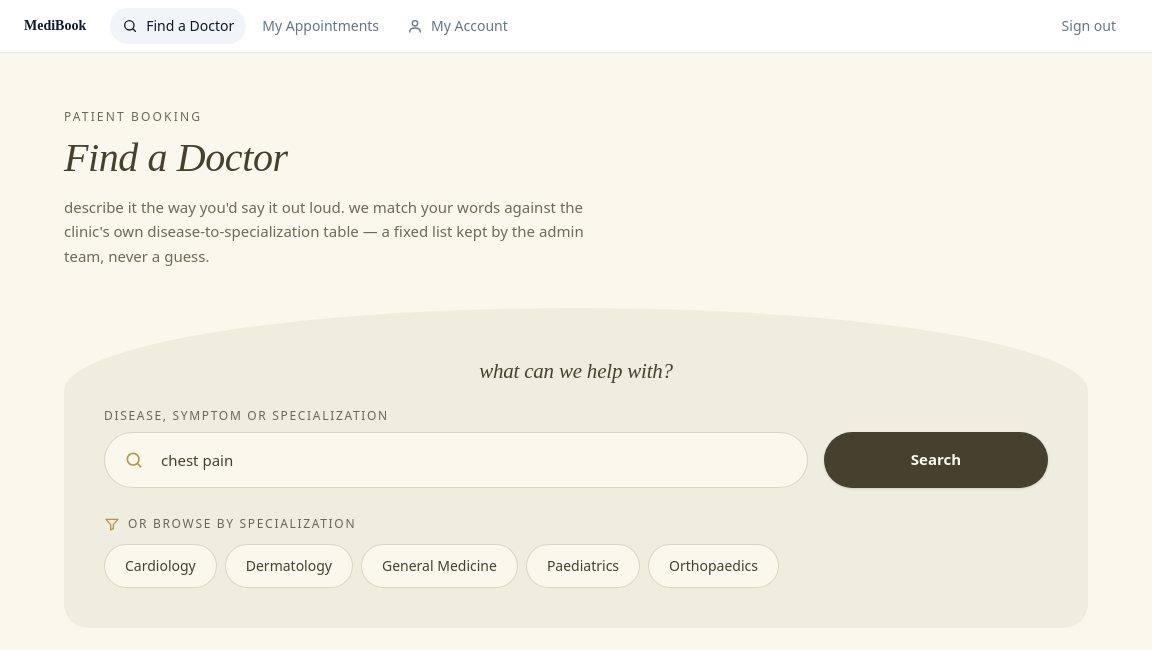
Test: App › [AC-006] sign-out clears the token and returns to sign-in
Click the button "Sign out" at (1089, 26), box top-left (1050, 8), bottom-right (1128, 44)
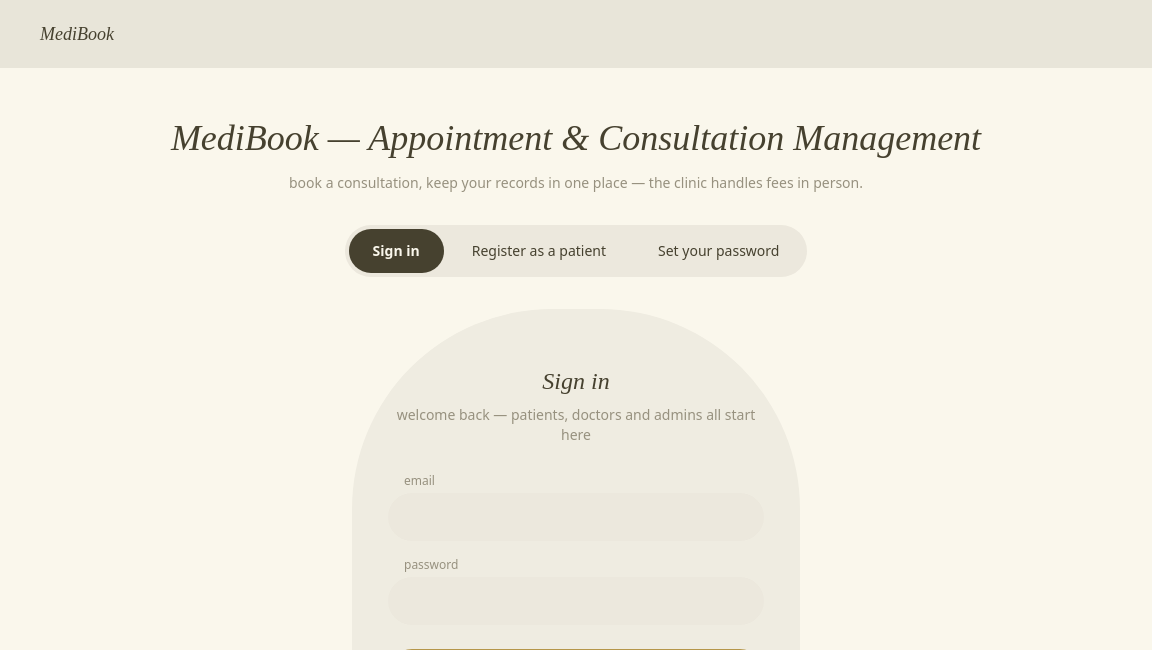
Expected: the element named "Sign in or register" is shown, top-left (344, 225), bottom-right (807, 277)
